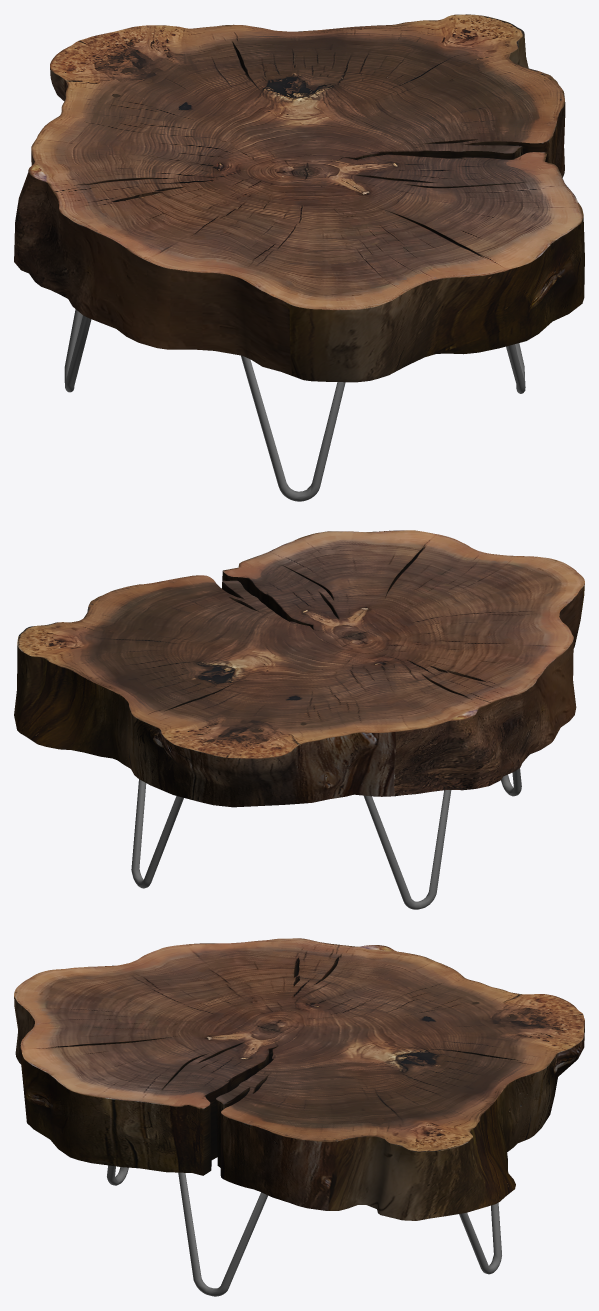
File: wood_slab_coffee_table.glb
3 renders of one model, top to bottom at view 1: azimuth 30°, elevation 25°; view 2: azimuth 150°, elevation 25°; view 3: azimuth 270°, elevation 25°, orthographic. The views are drawn at different scales.
Visible parts, largest first — view 1: Object009_low002_Coffee_table_of_elm_cut_3_75_0, Object009_low002_Coffee_table_of_elm_cut_1_79_0; view 2: Object009_low002_Coffee_table_of_elm_cut_3_75_0, Object009_low002_Coffee_table_of_elm_cut_1_79_0; view 3: Object009_low002_Coffee_table_of_elm_cut_3_75_0, Object009_low002_Coffee_table_of_elm_cut_1_79_0.
Part boxes in pixels (bbox=[...]): Object009_low002_Coffee_table_of_elm_cut_3_75_0: bbox=[14, 14, 584, 382]; Object009_low002_Coffee_table_of_elm_cut_1_79_0: bbox=[64, 309, 525, 501]; Object009_low002_Coffee_table_of_elm_cut_3_75_0: bbox=[14, 530, 584, 807]; Object009_low002_Coffee_table_of_elm_cut_1_79_0: bbox=[131, 768, 521, 909]; Object009_low002_Coffee_table_of_elm_cut_3_75_0: bbox=[14, 938, 584, 1220]; Object009_low002_Coffee_table_of_elm_cut_1_79_0: bbox=[107, 1165, 501, 1296].
Bounding box in the file's own units: 0.9201 × 0.3813 × 1.01.
Materials: 2 (1 with a texture image).
